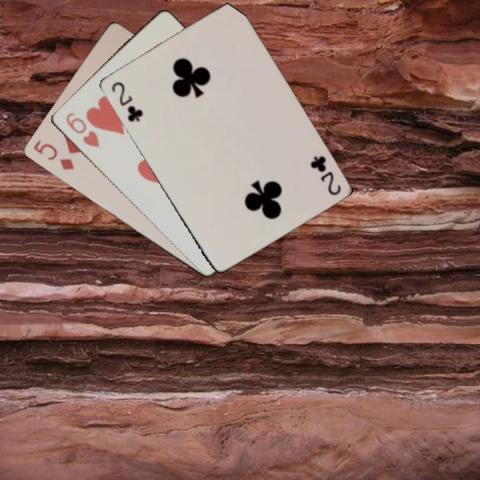2c: (108, 78, 144, 123), (307, 152, 342, 197)
5d: (30, 137, 76, 171)
6h: (62, 109, 101, 149)
